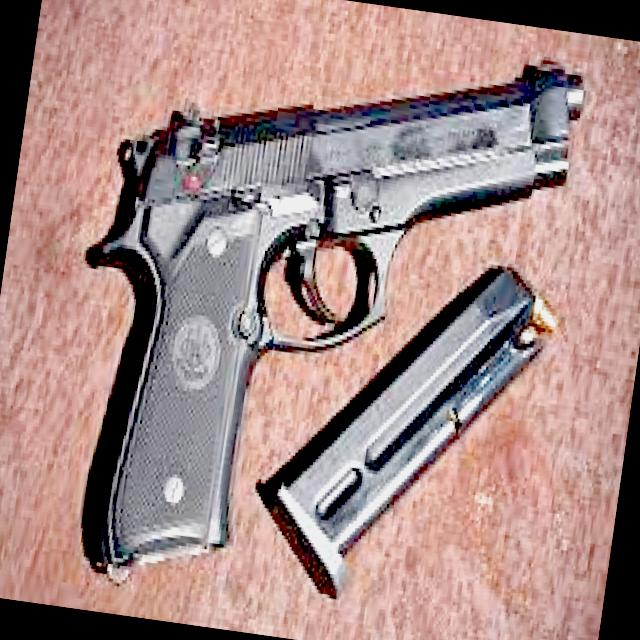semi automatic: (34, 0, 607, 640)
